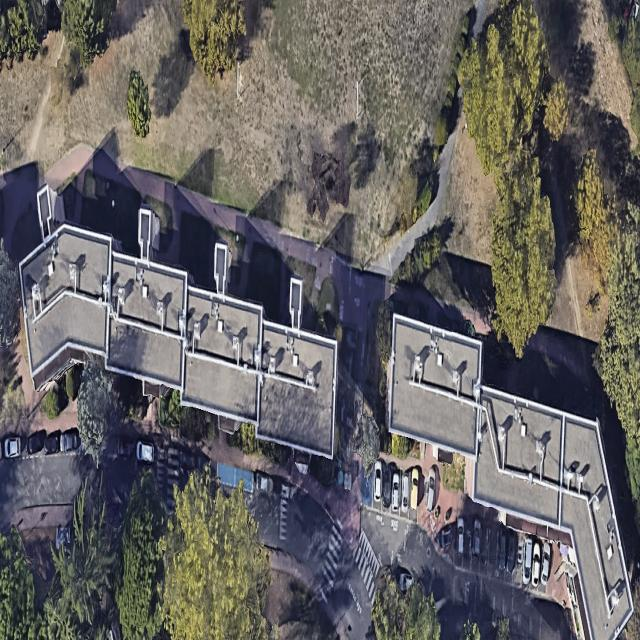immeuble: (322, 269, 640, 640), (0, 212, 377, 493)
